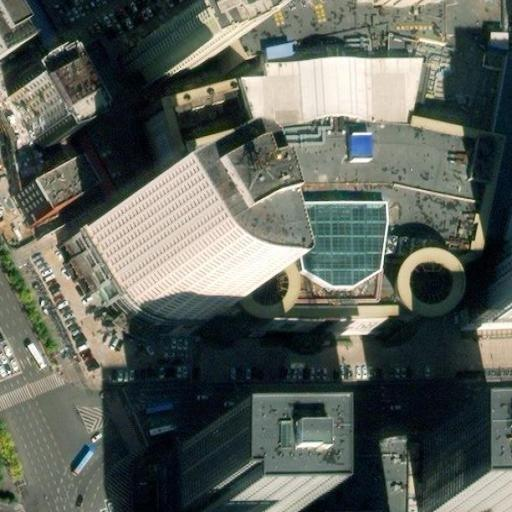building: (147, 0, 491, 368), (67, 213, 186, 349), (0, 79, 82, 183), (265, 456, 405, 512), (131, 13, 222, 82), (404, 454, 508, 512), (160, 459, 267, 512), (25, 172, 78, 218), (476, 272, 512, 334), (336, 0, 414, 21), (149, 463, 162, 512)
